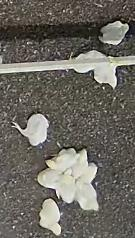chick: (11, 113, 49, 147), (36, 197, 63, 236), (93, 55, 119, 90), (67, 49, 103, 74), (97, 20, 130, 46), (74, 181, 99, 212), (47, 147, 79, 171), (56, 167, 76, 202), (37, 167, 65, 187), (70, 147, 86, 179), (77, 163, 97, 184)
